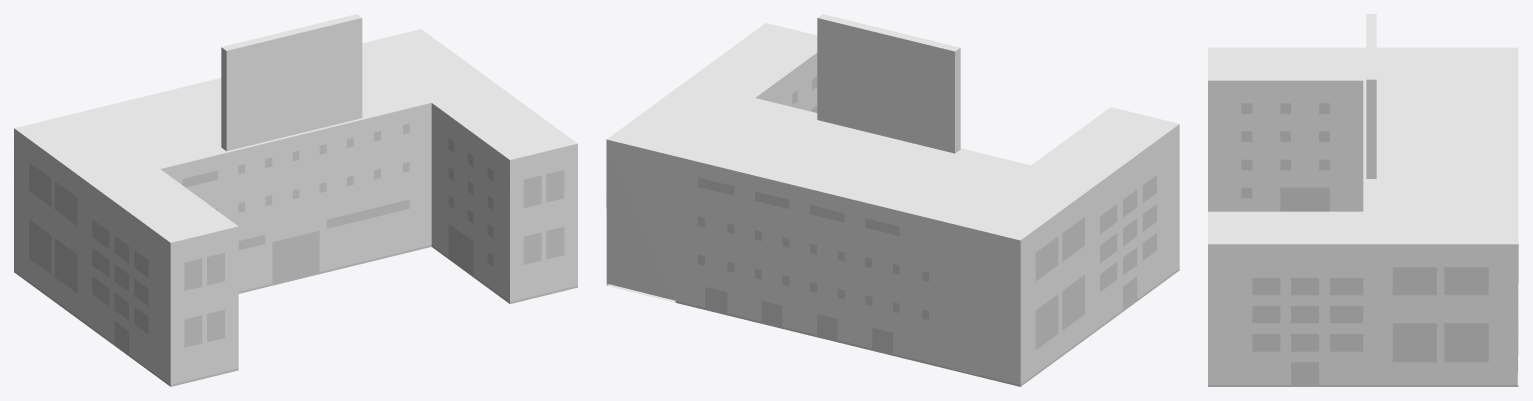
Rendered from PoliceDep.fbx.
3 views of the same model, side by side, from view 1: azimuth 30°, elevation 25°; view 2: azimuth 150°, elevation 25°; view 3: azimuth 270°, elevation 25° (orthographic). The views are drawn at different scales.
Parts seen in each view (by area): view 1: PoliceDep, PoliceDep_Sign; view 2: PoliceDep, PoliceDep_Sign; view 3: PoliceDep, PoliceDep_Sign.
Part boxes in pixels (x1,y1,x2,y2): PoliceDep: (14, 29, 577, 386); PoliceDep_Sign: (221, 14, 362, 151); PoliceDep: (606, 23, 1179, 386); PoliceDep_Sign: (817, 14, 960, 153); PoliceDep: (1208, 47, 1518, 386); PoliceDep_Sign: (1366, 14, 1376, 178).
Size of the model in its own units: 5999 by 3441 by 4006.
